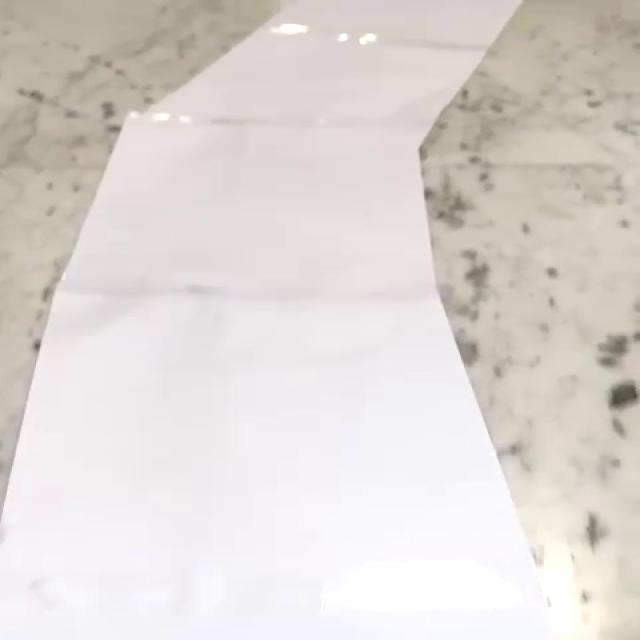road: (3, 0, 555, 640)
